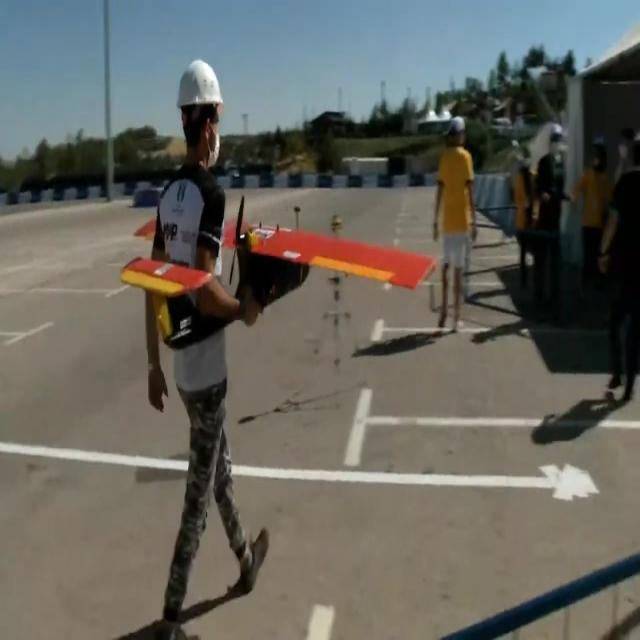iha: (118, 192, 439, 354)
